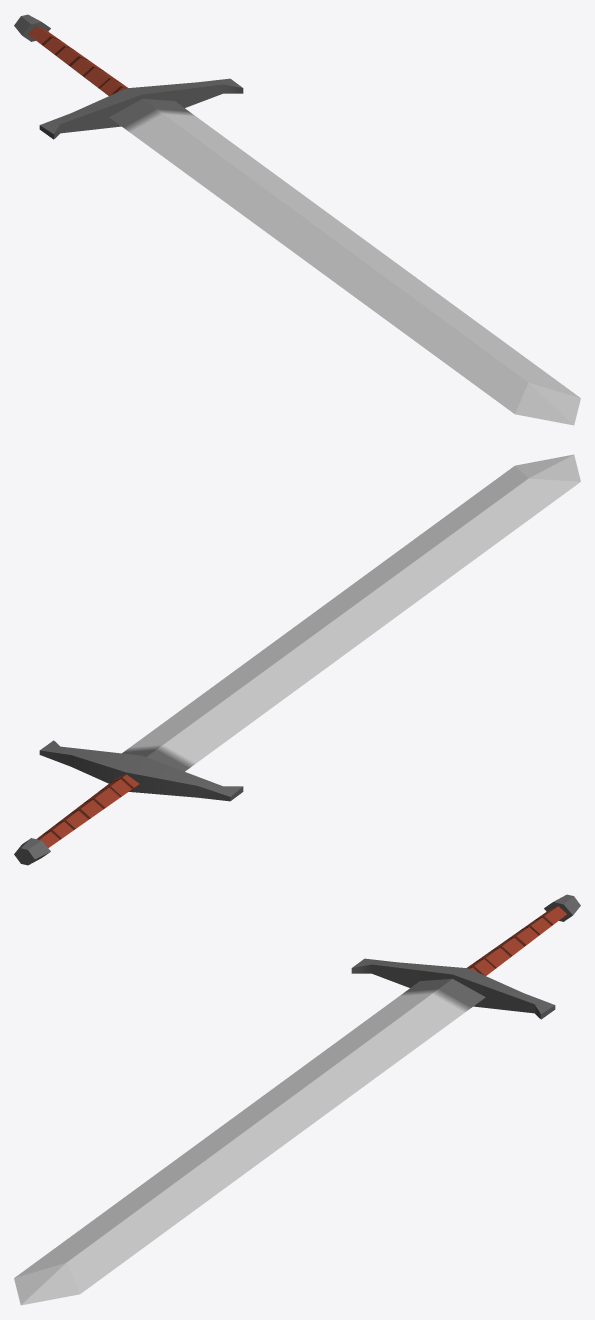
The model's file is GreatswordBasic.glb.
3 views of the same model, one above another, from view 1: azimuth 30°, elevation 25°; view 2: azimuth 150°, elevation 25°; view 3: azimuth 330°, elevation 25° (orthographic).
Visible parts, largest first — view 1: GreatswordBasic.001; view 2: GreatswordBasic.001; view 3: GreatswordBasic.001.
Boxes of the visible parts, x1=… form: GreatswordBasic.001: x1=14, y1=14, x2=580, y2=425; GreatswordBasic.001: x1=14, y1=454, x2=580, y2=865; GreatswordBasic.001: x1=14, y1=894, x2=580, y2=1305.
Size of the model in its own units: 0.375 by 0.0559 by 1.87.
Materials: 1 (1 with a texture image).
